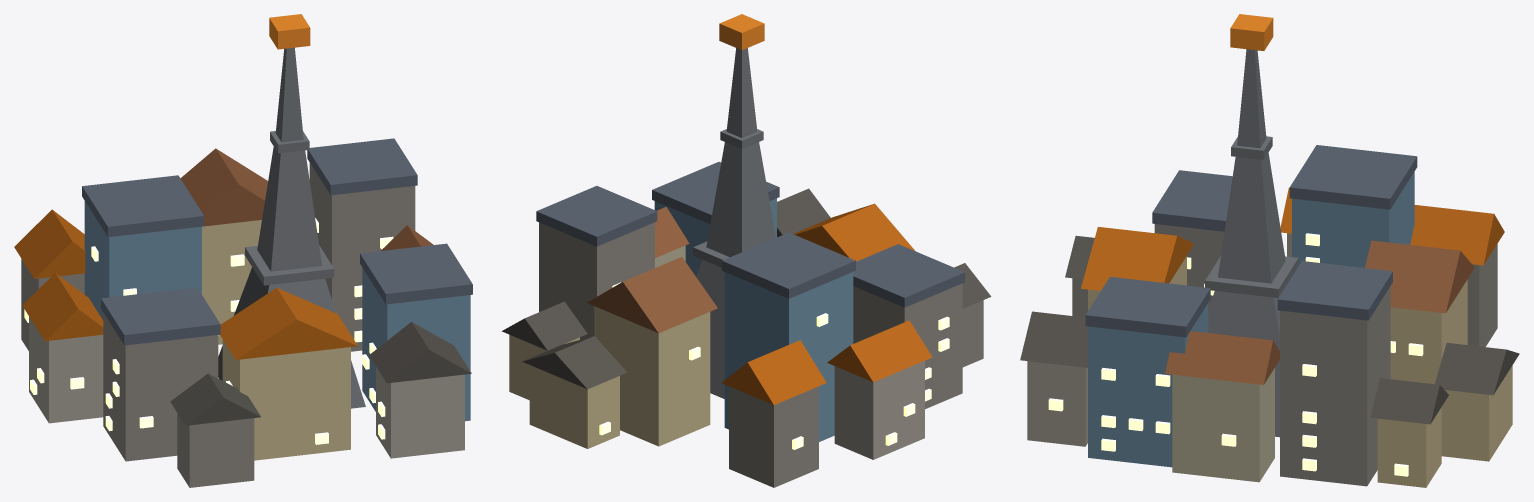
Rendered from overworld-settlement-european-city.glb.
3 views of the same model, side by side, from view 1: azimuth 30°, elevation 25°; view 2: azimuth 150°, elevation 25°; view 3: azimuth 270°, elevation 25° (orthographic). The views are drawn at different scales.
Visible parts, largest first — view 1: settlement; view 2: settlement; view 3: settlement.
Part boxes in pixels (bbox=[...]): settlement: bbox=[14, 14, 472, 487]; settlement: bbox=[502, 14, 991, 487]; settlement: bbox=[1020, 14, 1519, 487].
Bounding box in the file's own units: 0.4702 × 0.421 × 0.4986.
